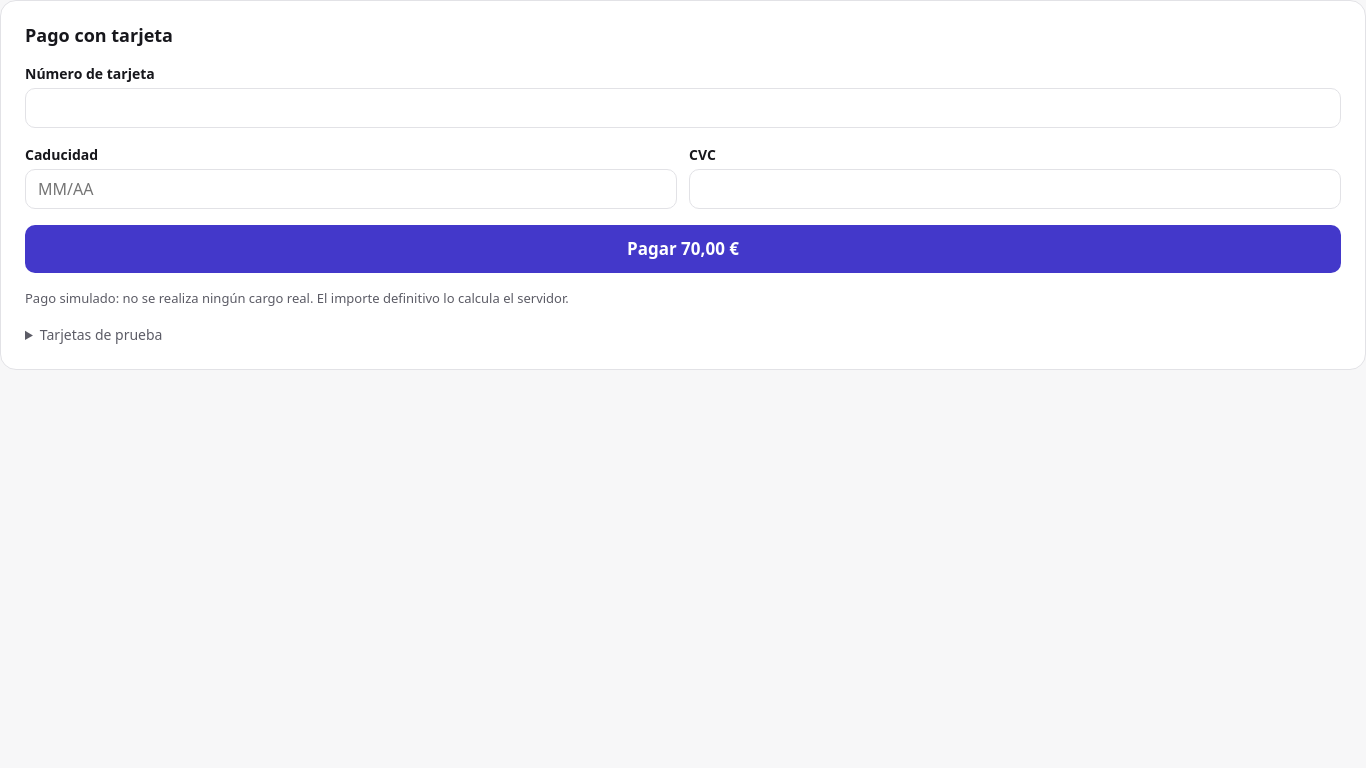
Test: CheckoutForm › si el usuario rechaza el 3D Secure el pago falla
In the field labelled "Número de tarjeta": (683, 108) [25,88,1341,128], type "4000002500003155"
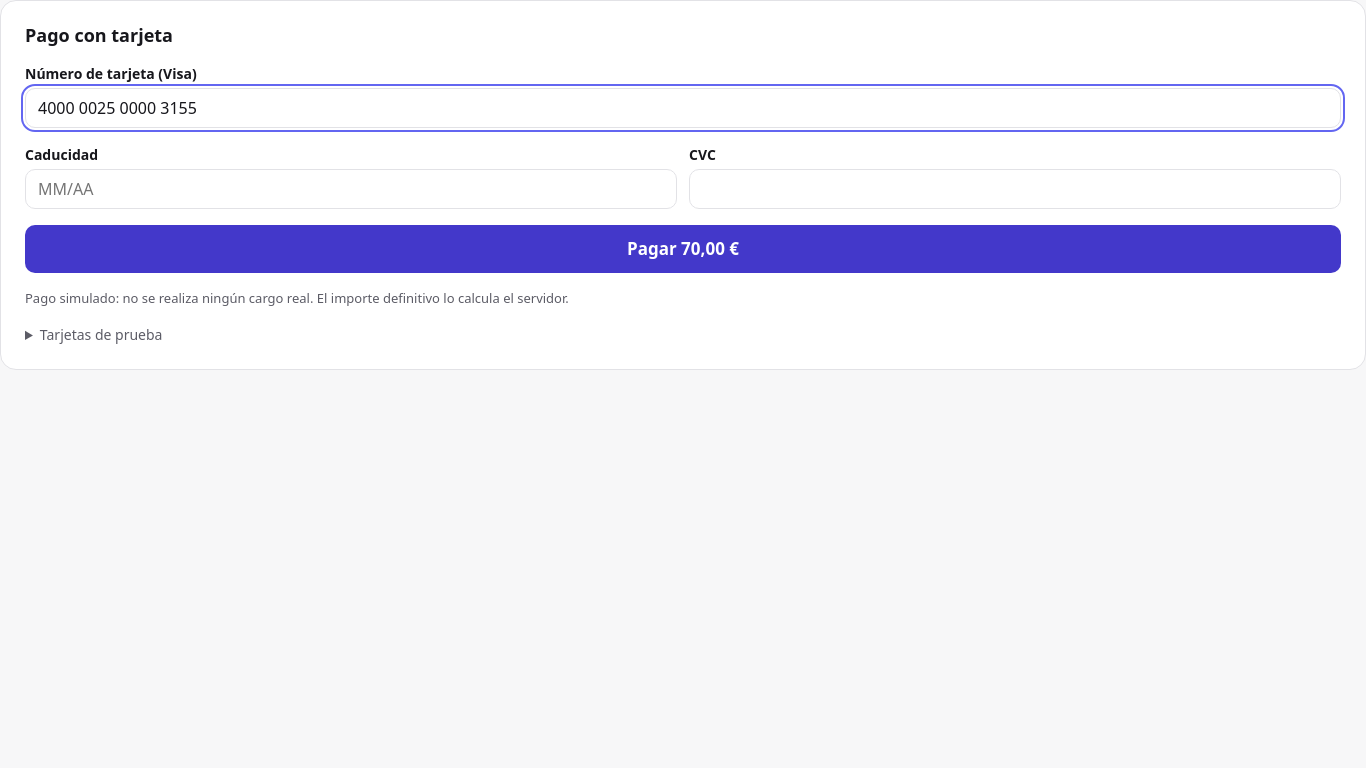
In the field labelled "Caducidad": (351, 189) [25,169,677,209], type "1230"
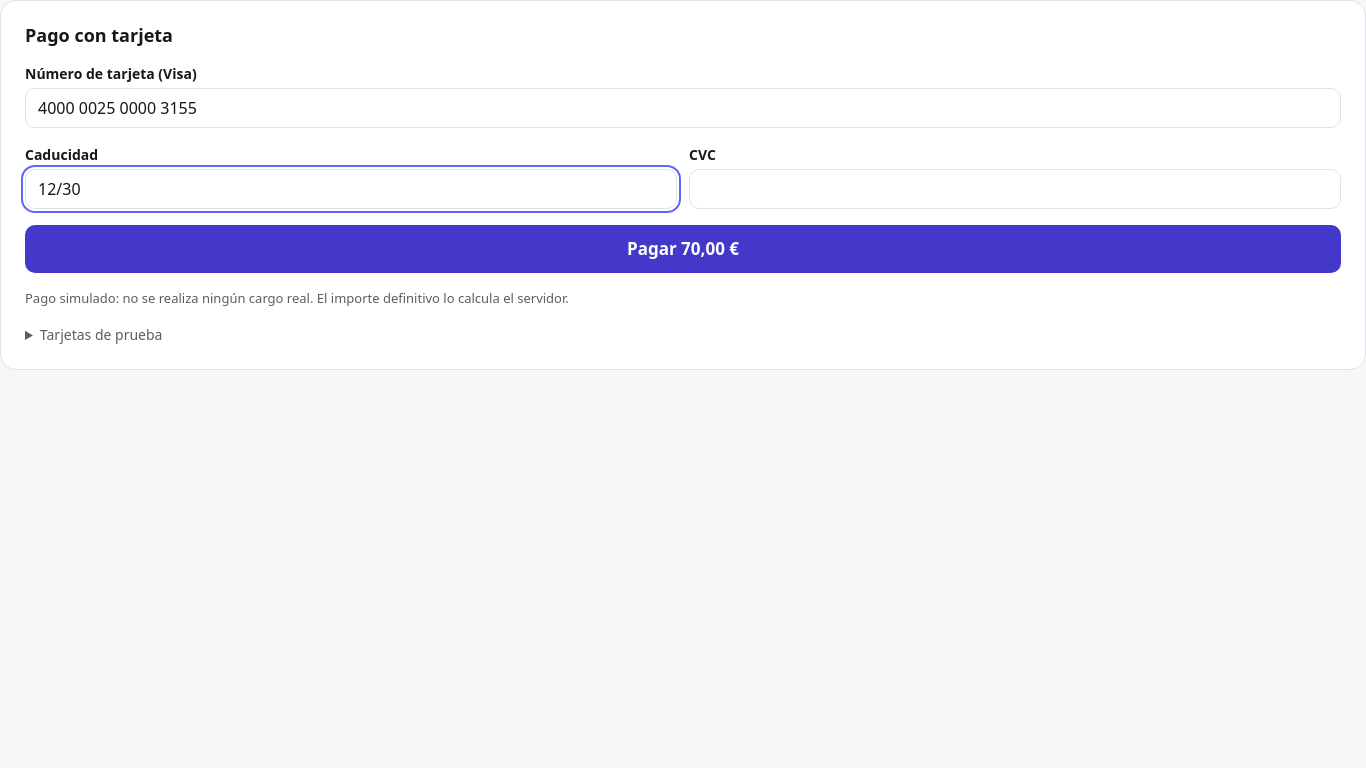
In the field labelled "CVC": (1015, 189) [689,169,1341,209], type "123"
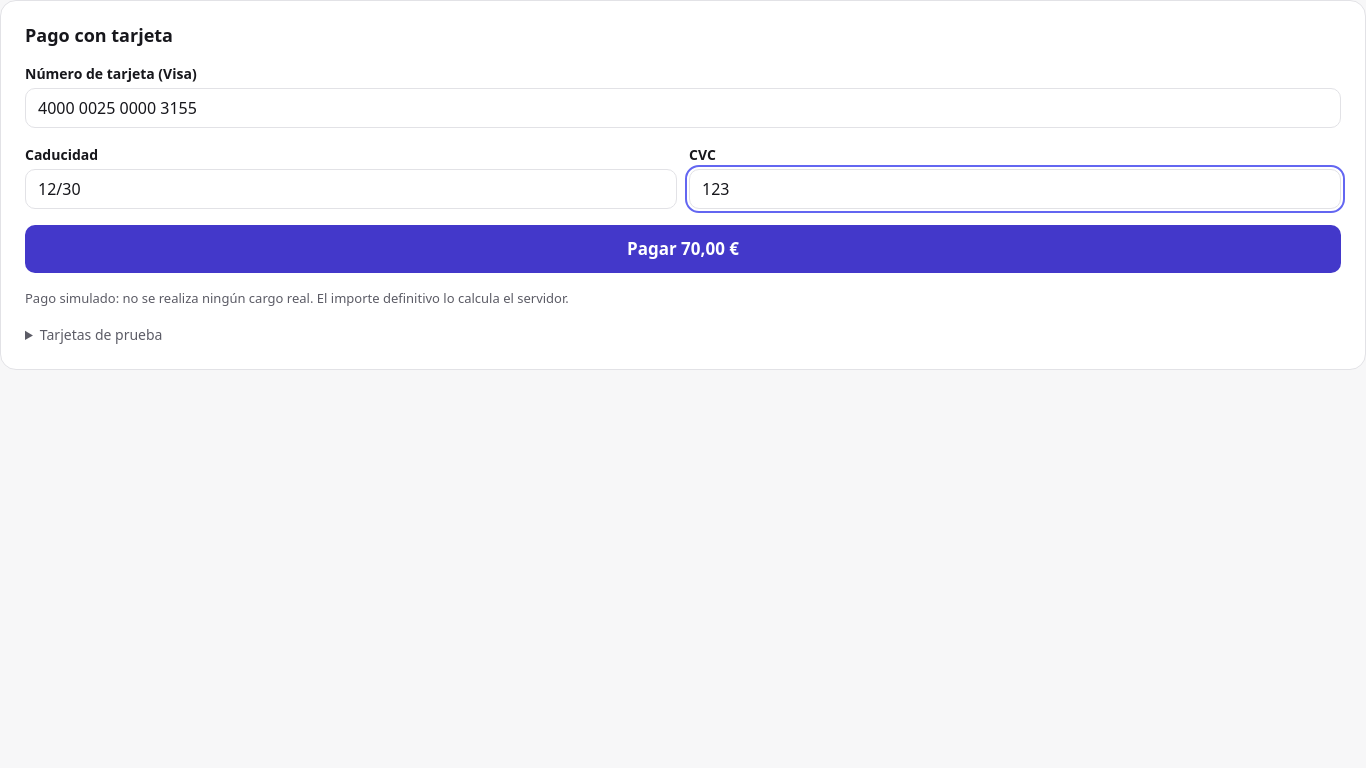
Click the button "Pagar 70,00 €": (683, 249) [25,225,1341,273]
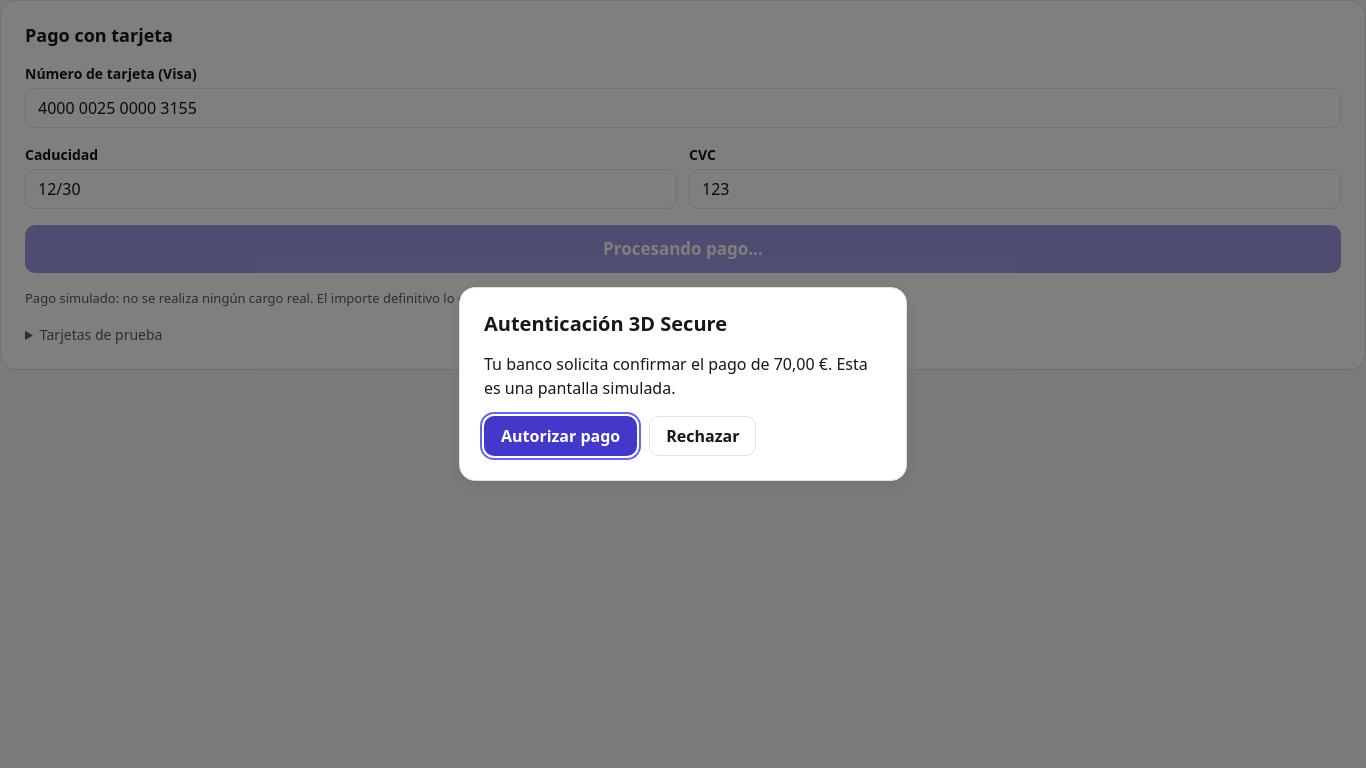
Click the button "Rechazar": (703, 436) [649,416,756,456]
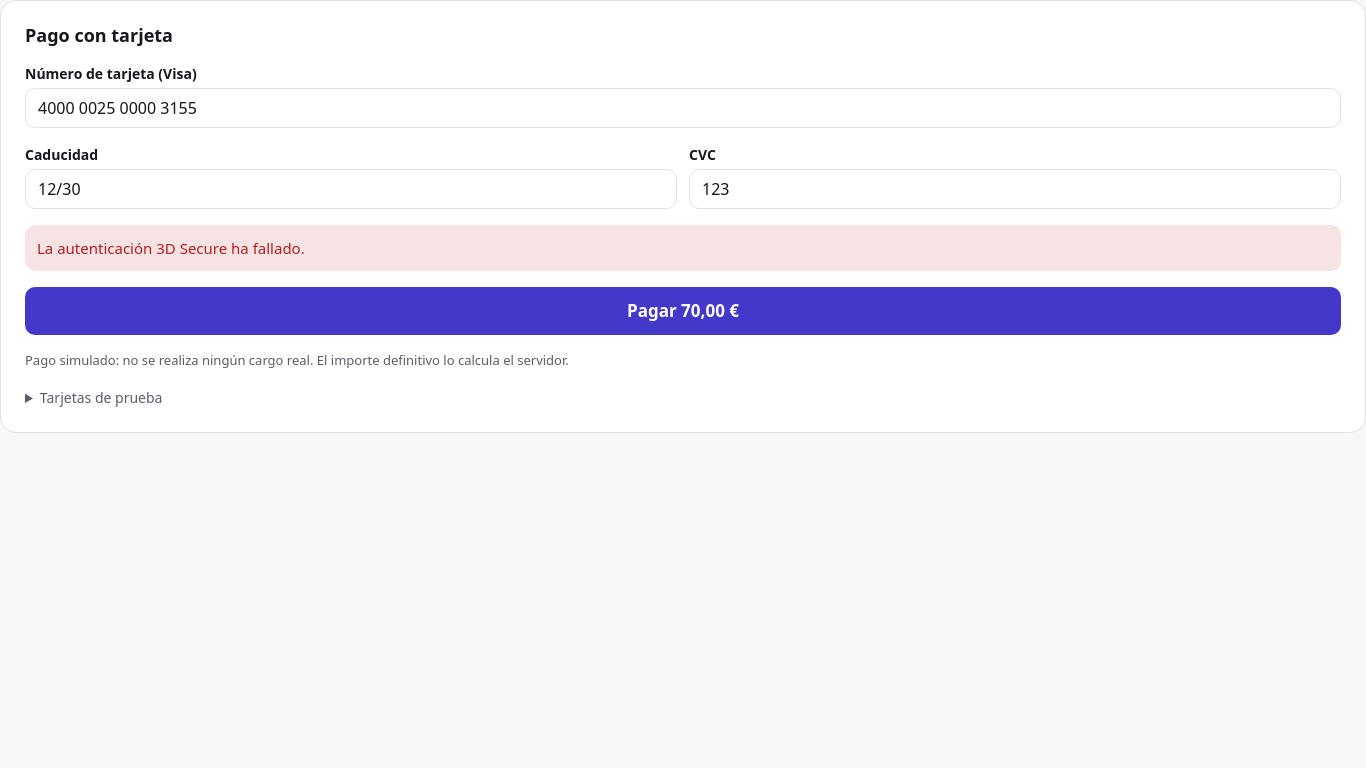
Result: the message reads "La autenticación 3D Secure ha fallado." at [37,238,305,258]
